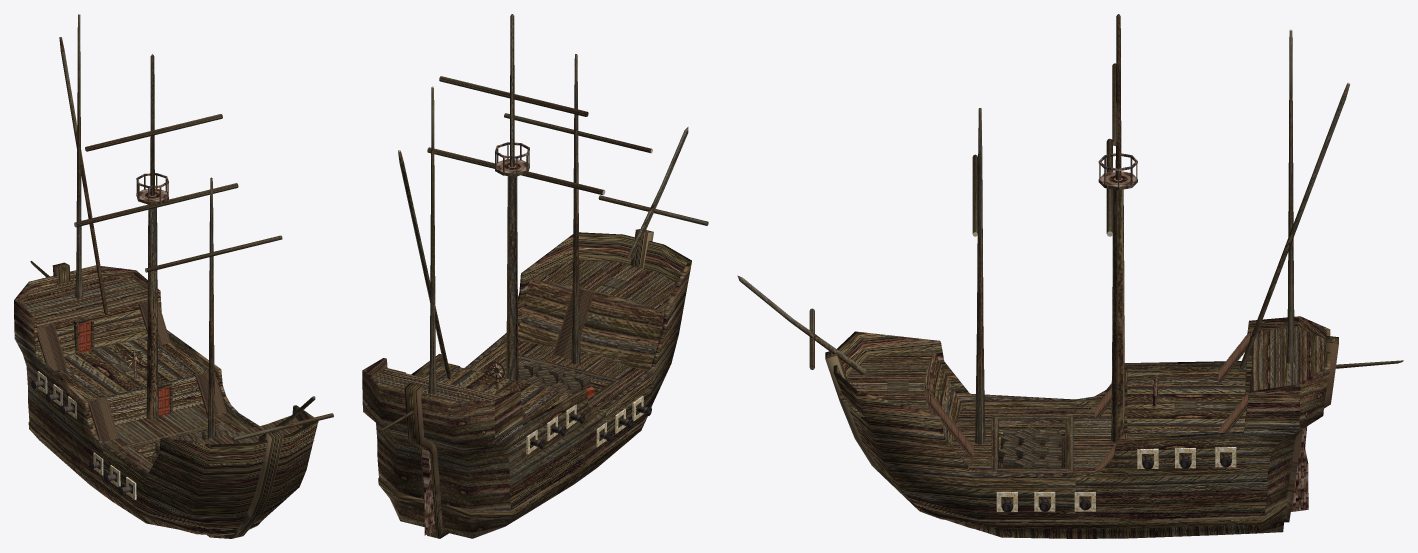
File: caravel.dae
The picture shows the model from 3 angles, left to right: view 1: azimuth 30°, elevation 25°; view 2: azimuth 150°, elevation 25°; view 3: azimuth 270°, elevation 25°; orthographic projection. The views are drawn at different scales.
Visible parts, largest first — view 1: Casco; view 2: Casco; view 3: Casco.
Part boxes in pixels (left/top/right/bottom): Casco: left=14, top=14, right=333, bottom=538; Casco: left=362, top=14, right=708, bottom=538; Casco: left=737, top=14, right=1403, bottom=538.
Bounding box in the file's own units: 20.01 × 60.81 × 51.41.
